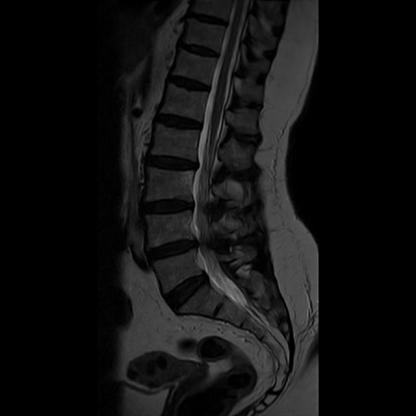Disc Bulgerotation: (138, 194, 199, 220), (140, 149, 201, 174), (145, 238, 205, 261)
